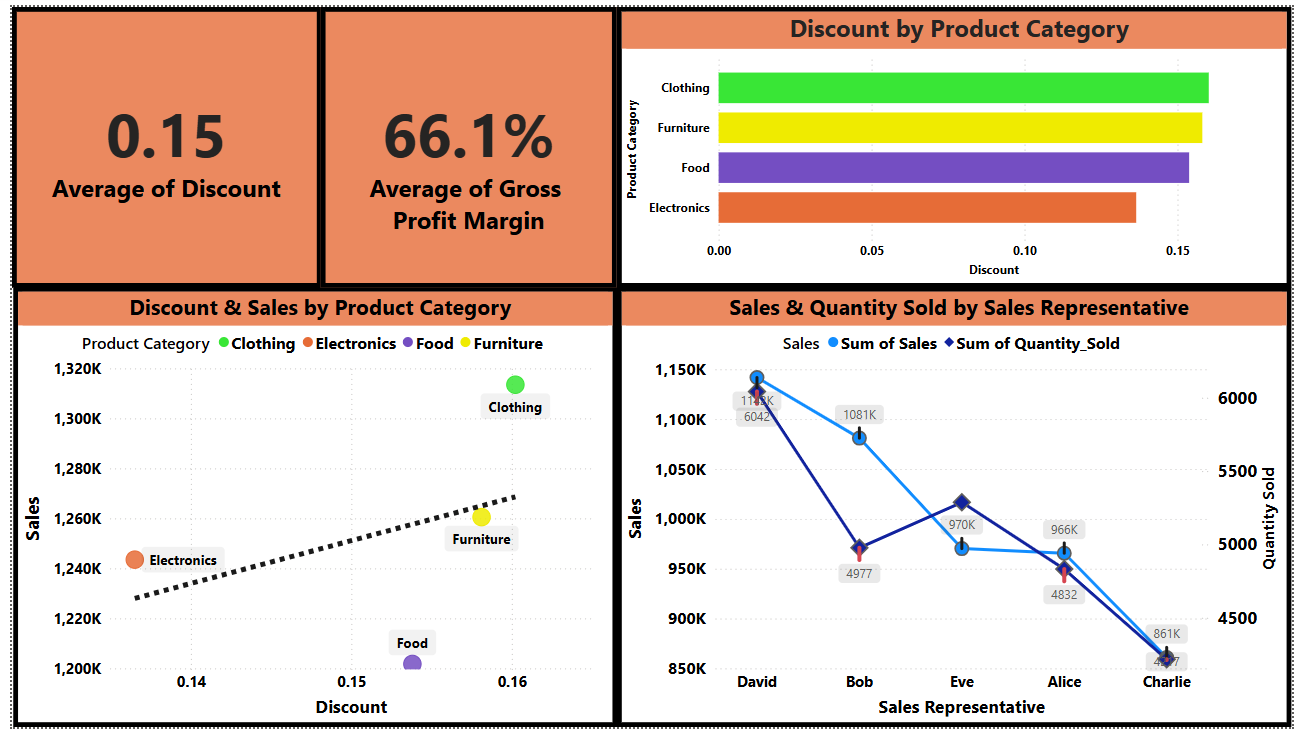

This screenshot's page, from the dashboard's own definition file:
{"tool":"powerbi","page":{"name":"Discount","canvas":[1280,720],"ordinal":1},"visuals":[{"type":"card","fields":{"Values":["Avg(sales_data.Discount)"]},"box":[0,0,309.3,280.5],"z":0},{"type":"barChart","title":"Discount by Product Category","fields":{"Y":["Avg(sales_data.Discount)"],"Category":["sales_data.Product_Category"]},"box":[605.6,0,674.7,280.5],"z":1000},{"type":"scatterChart","title":"Discount & Sales by Product Category","fields":{"X":["Avg(sales_data.Discount)"],"Y":["Sum(sales_data.Sales)"],"Series":["sales_data.Product_Category"]},"box":[1.4,280.5,604.2,440.2],"z":2000},{"type":"lineChart","title":"Sales & Quantity Sold by Sales Representative ","fields":{"Category":["sales_data.Sales_Rep"],"Y":["Sum(sales_data.Sales)"],"Y2":["Sum(sales_data.Quantity_Sold)"]},"box":[605.6,280.5,674.7,440.2],"z":3000},{"type":"card","fields":{"Values":["Avg(sales_data.Gross Profit Margin)"]},"box":[309.3,0,296.3,280.5],"z":4000}]}

Visuals, with their boxes in screenshot pixels (x1, y1, x2, y2), scaled from the page's 1280x720 canvas onto the 1298x733 screenshot:
card - Avg(sales_data.Discount): (left=0, top=0, right=314, bottom=286)
"Discount by Product Category" barChart: (left=614, top=0, right=1297, bottom=286)
"Discount & Sales by Product Category" scatterChart: (left=1, top=286, right=614, bottom=732)
"Sales & Quantity Sold by Sales Representative " lineChart: (left=614, top=286, right=1297, bottom=732)
card - Avg(sales_data.Gross Profit Margin): (left=314, top=0, right=614, bottom=286)
